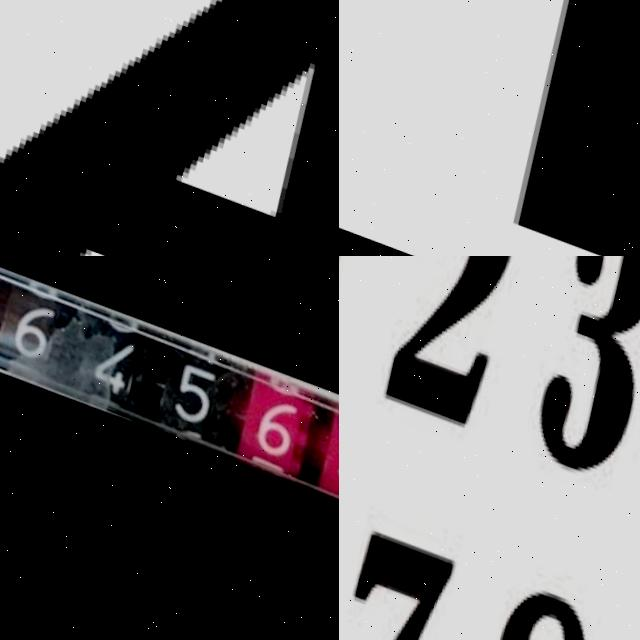2: (365, 256, 535, 429)
3: (513, 256, 640, 477)
4: (81, 321, 135, 392)
5: (157, 344, 218, 422), (321, 408, 339, 482)
6: (242, 378, 299, 455), (1, 291, 54, 360)
7: (339, 499, 466, 640)
8: (430, 562, 606, 640)
A: (0, 0, 339, 256)
T: (339, 0, 640, 256)
